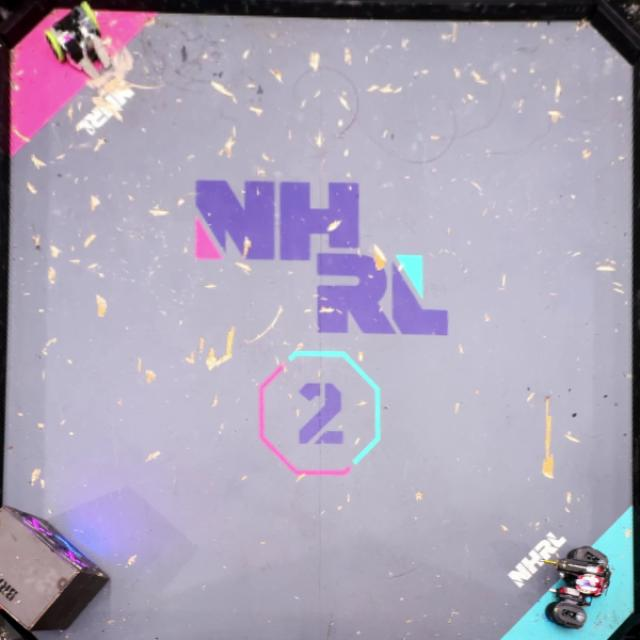housebot: (0, 503, 112, 634)
robot: (537, 544, 611, 628), (45, 0, 112, 79)
